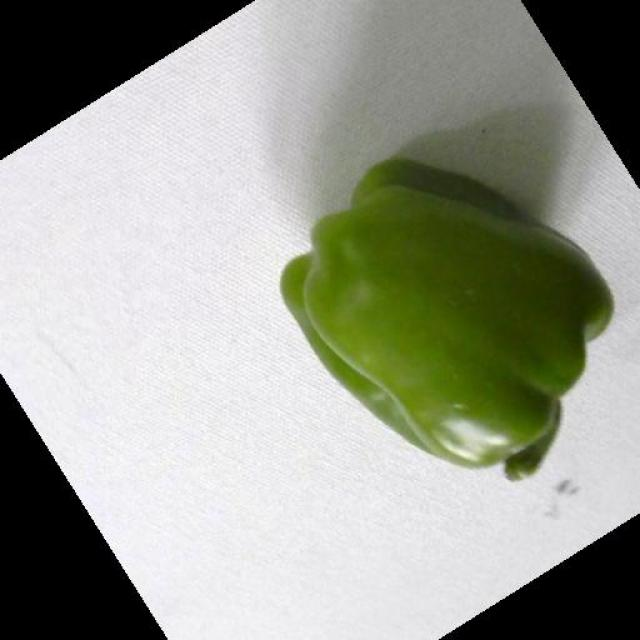Fresh_Capsicum: (255, 160, 603, 466)
